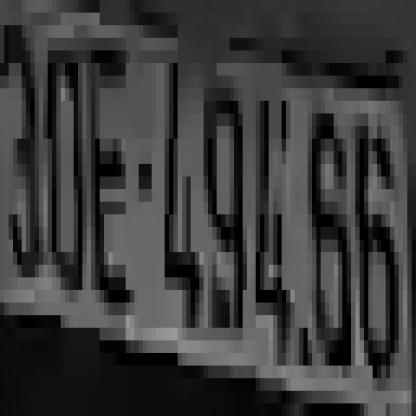0: (48, 50, 86, 290)
4: (164, 63, 204, 315)
6: (351, 126, 399, 366)
E: (91, 50, 134, 290)
